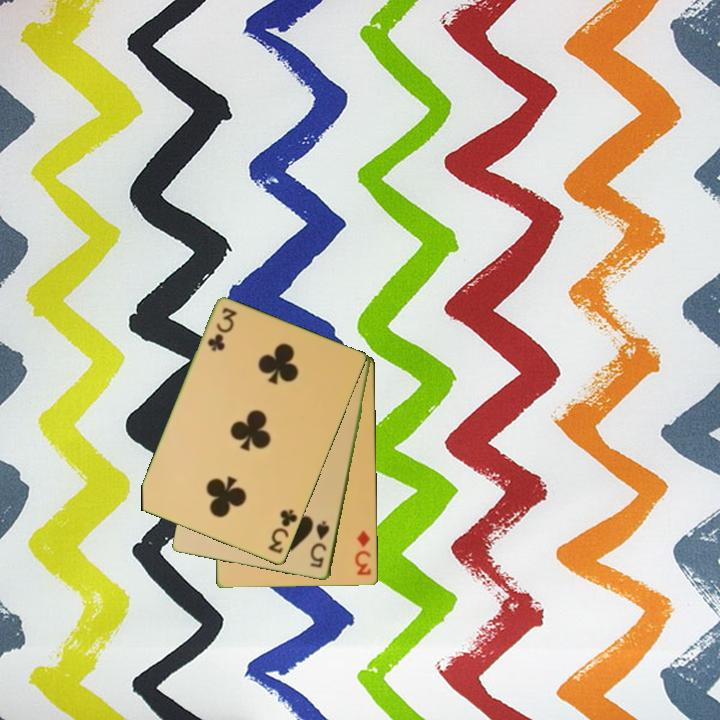3c: (265, 506, 301, 557), (204, 304, 239, 355)
3d: (352, 527, 374, 578)
5s: (307, 517, 333, 571)
